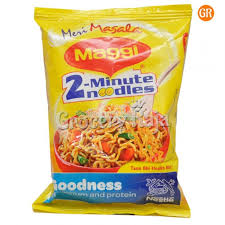maggi: (42, 12, 183, 216)
